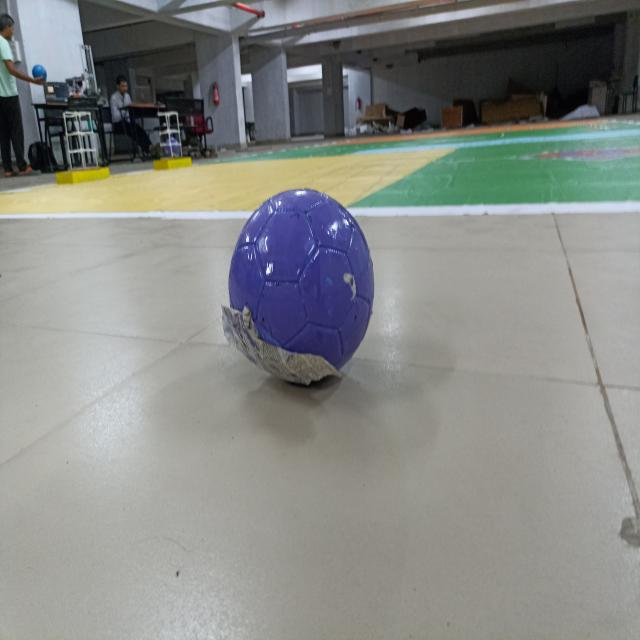purple_ball: (224, 190, 375, 400)
